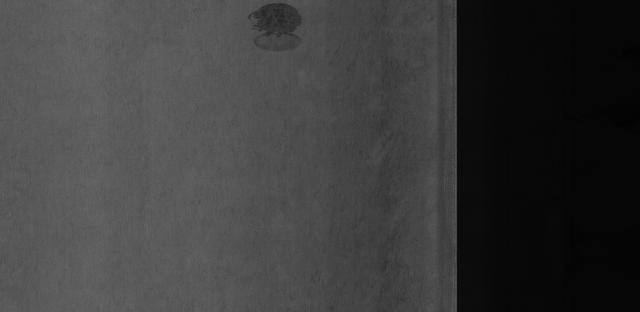oil_spot: (248, 3, 304, 56)
